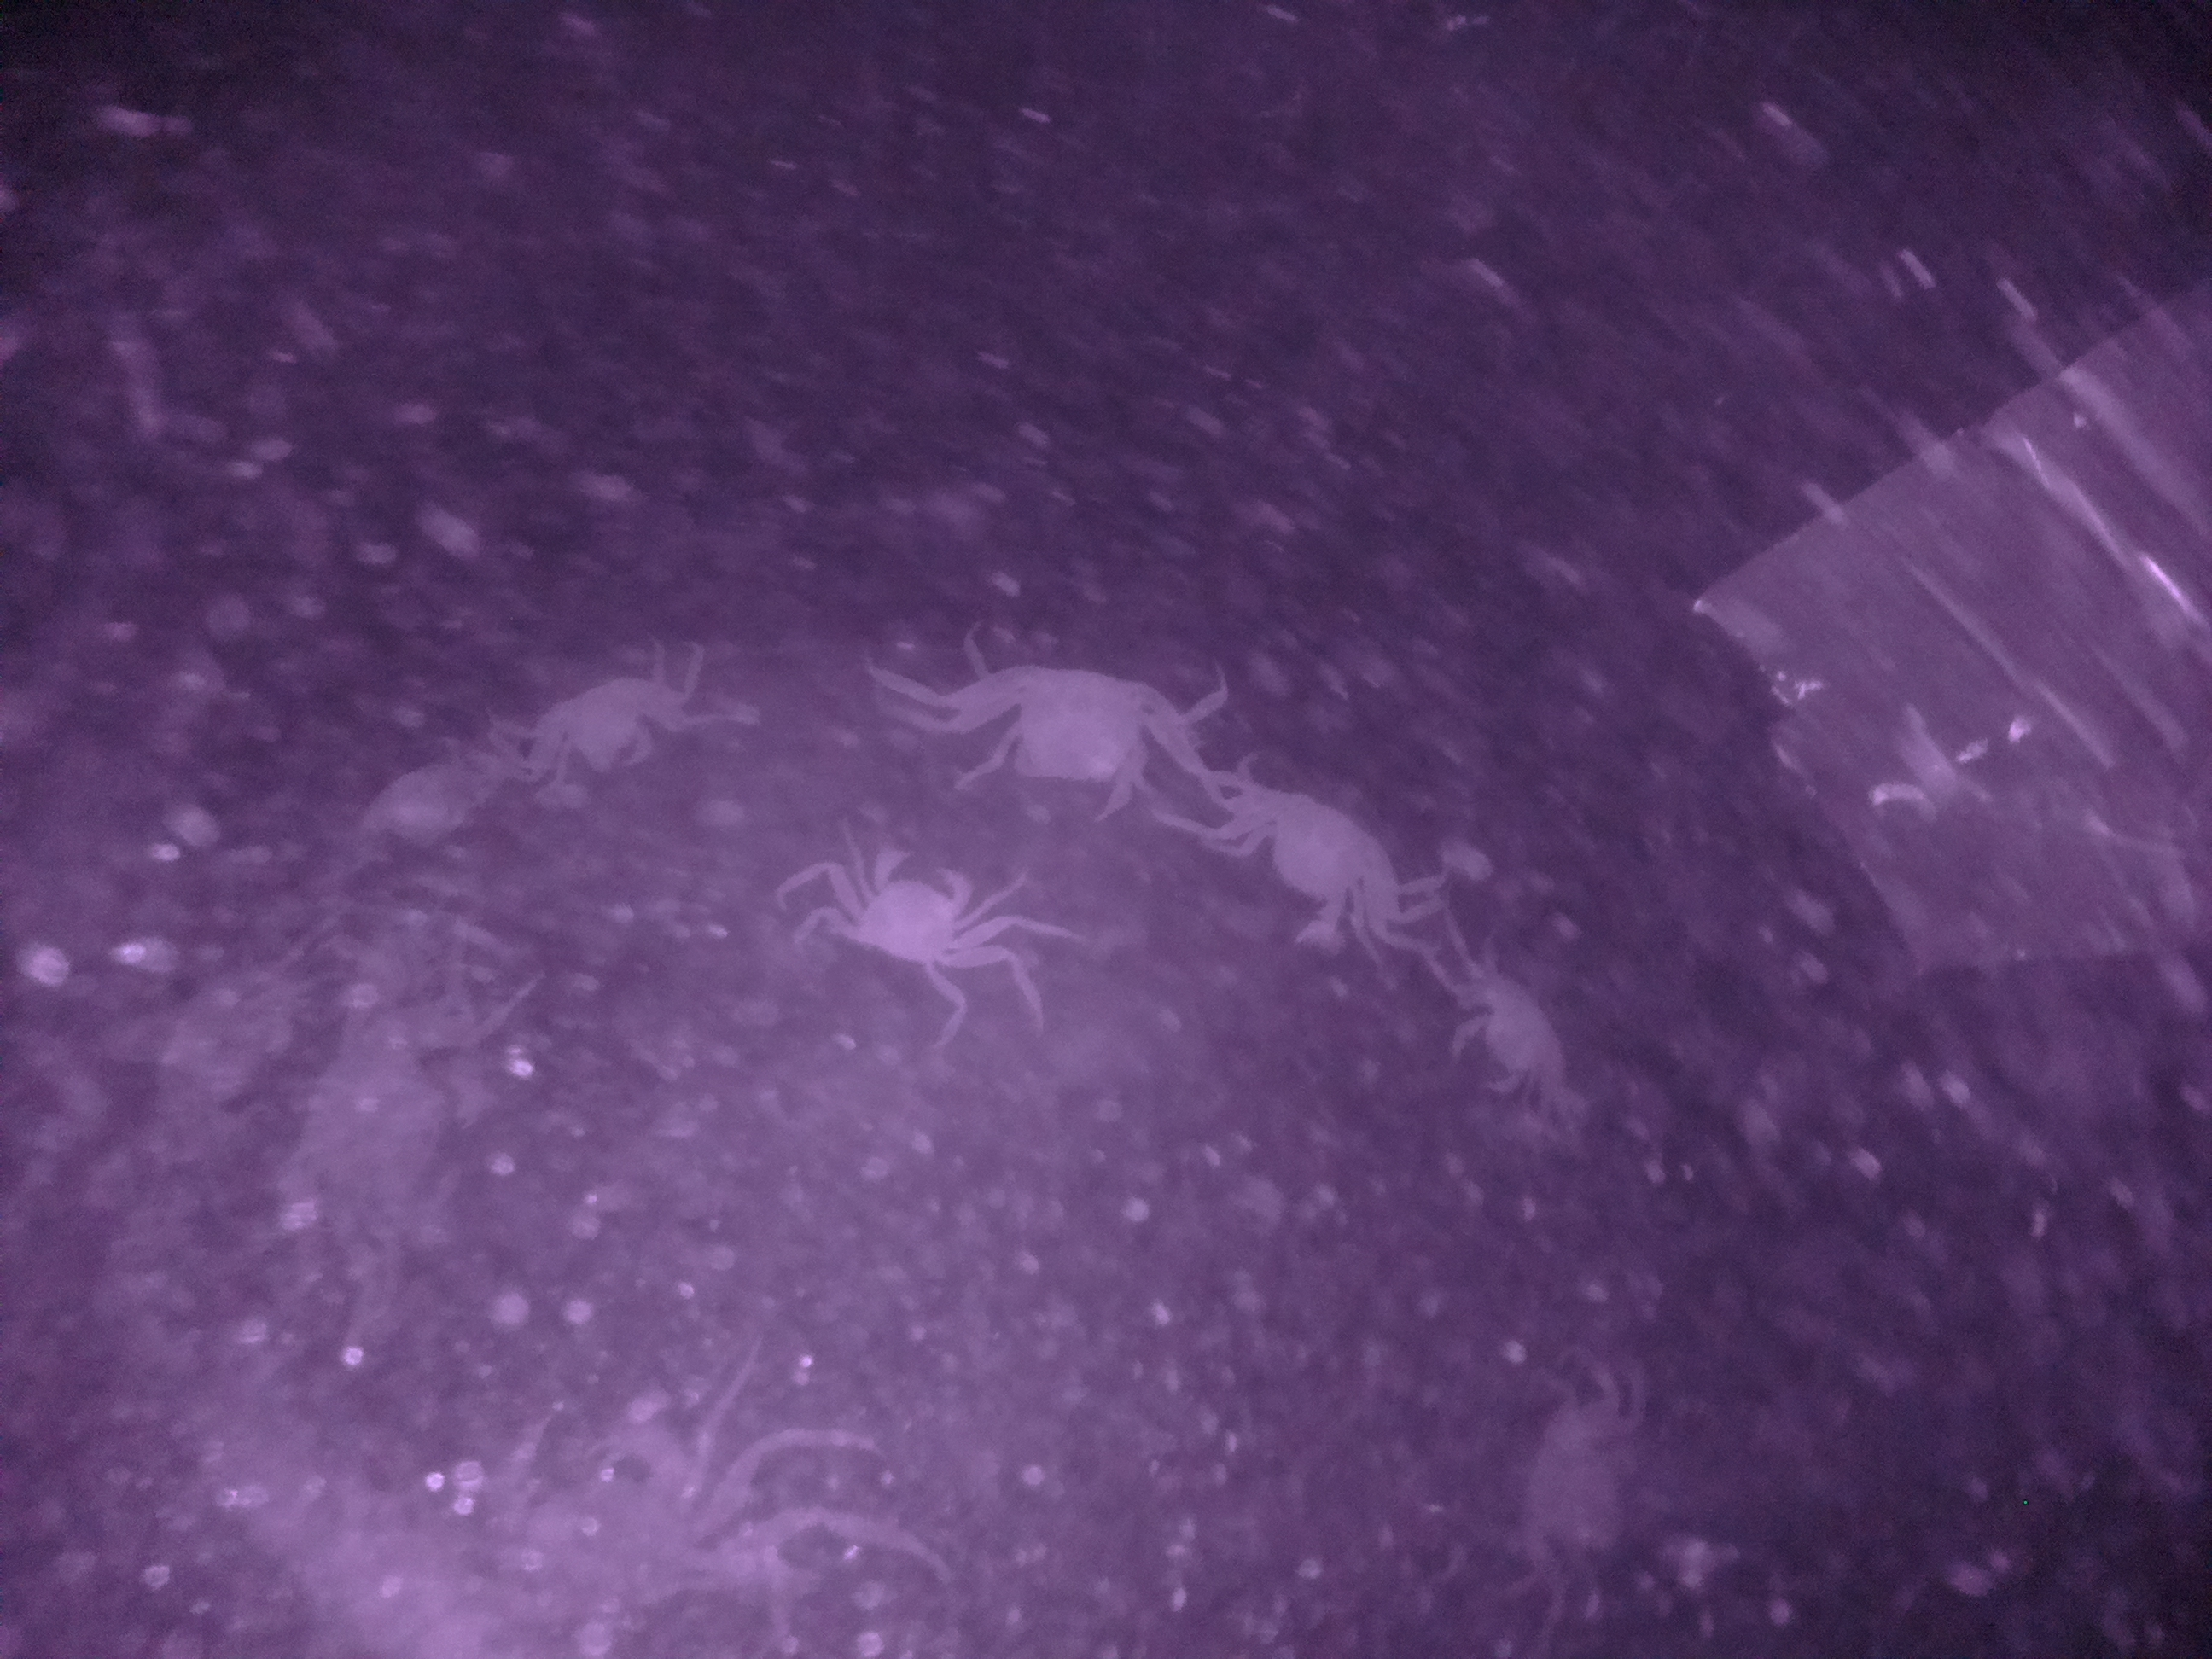Crab: (1209, 763, 1433, 958), (956, 653, 1186, 816), (798, 843, 1019, 979), (1432, 964, 1599, 1122)
